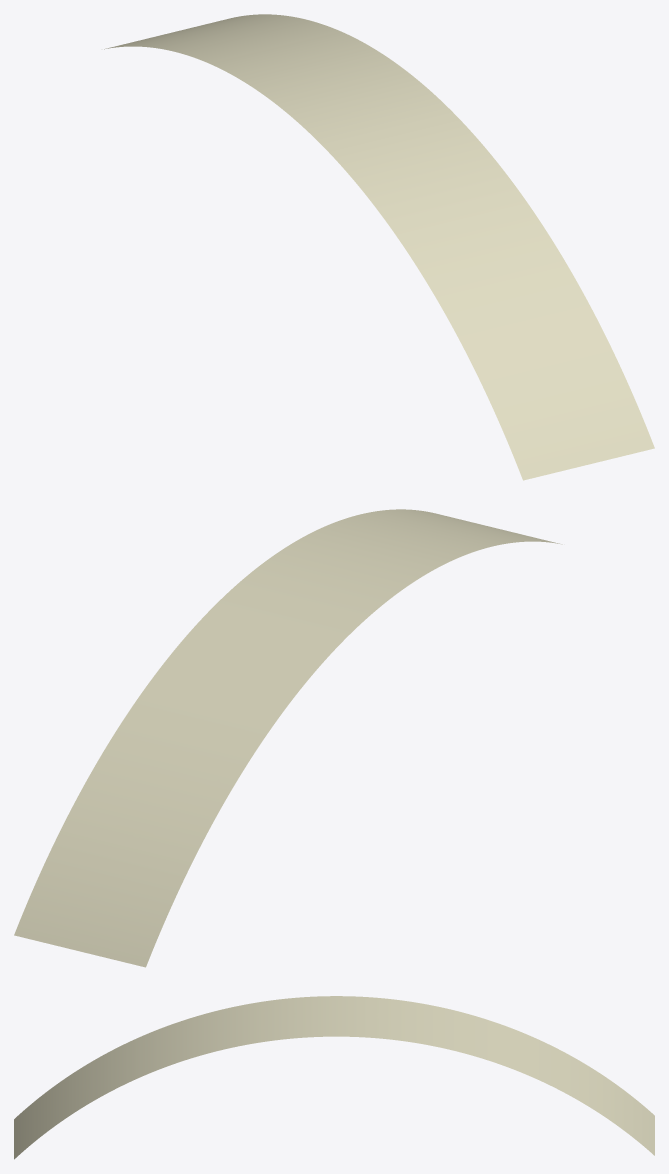
File: water.gltf
3 views of the same model, one above another, from view 1: azimuth 30°, elevation 25°; view 2: azimuth 150°, elevation 25°; view 3: azimuth 270°, elevation 25° (orthographic). The views are drawn at different scales.
Parts seen in each view (by area): view 1: water; view 2: water; view 3: water.
Part boxes in pixels (left/top/right/bottom): water: left=104, top=14, right=654, bottom=480; water: left=14, top=509, right=562, bottom=967; water: left=14, top=996, right=654, bottom=1159.
Bounding box in the file's own units: 81.82 × 116 × 547.
